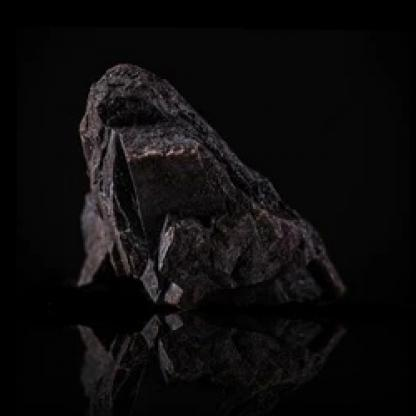Sedimentary_coal: (65, 48, 354, 414)
